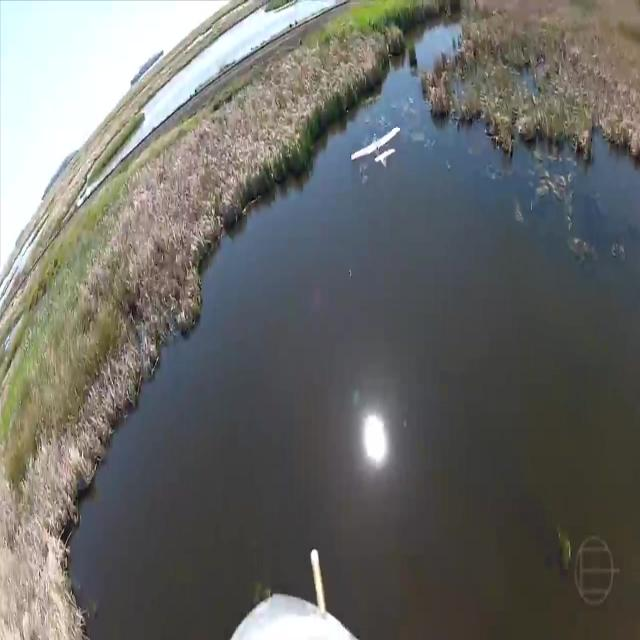iha: (351, 125, 400, 170)
